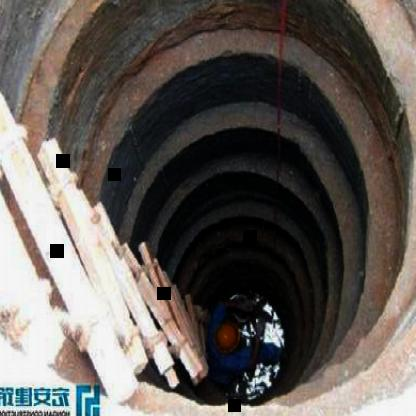helmet: (209, 322, 242, 352)
